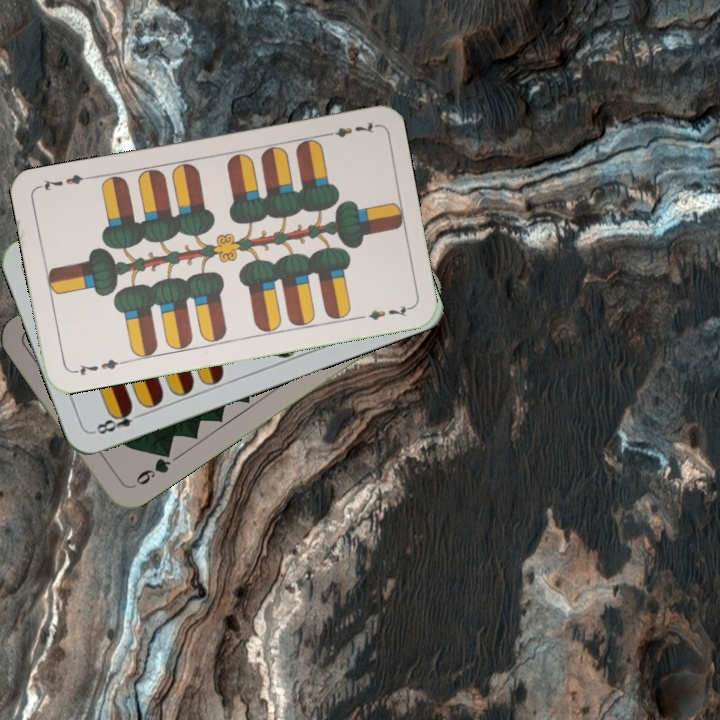E7: (68, 355, 127, 378), (319, 118, 378, 140)
E8: (89, 403, 147, 437)
G9: (126, 446, 174, 491)
